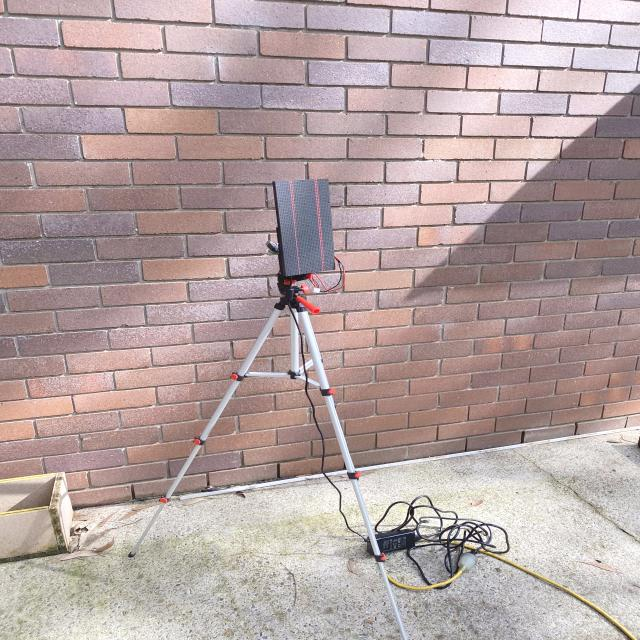matrix: (268, 178, 340, 278)
